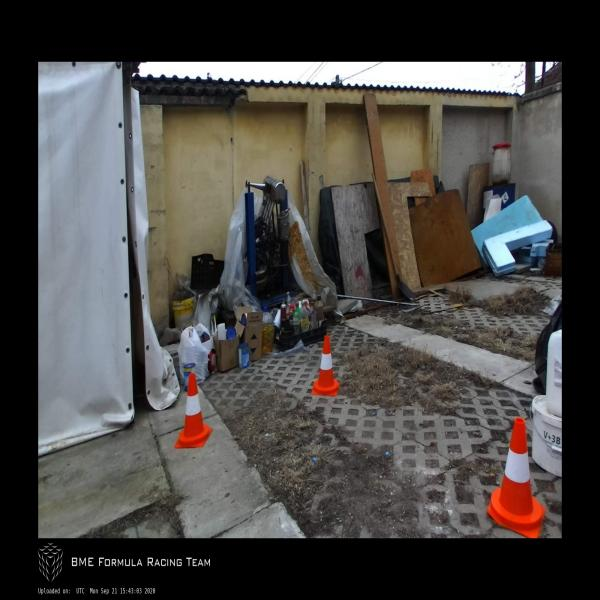orange_cone: (486, 417, 546, 538), (174, 373, 213, 448), (312, 335, 339, 397)
